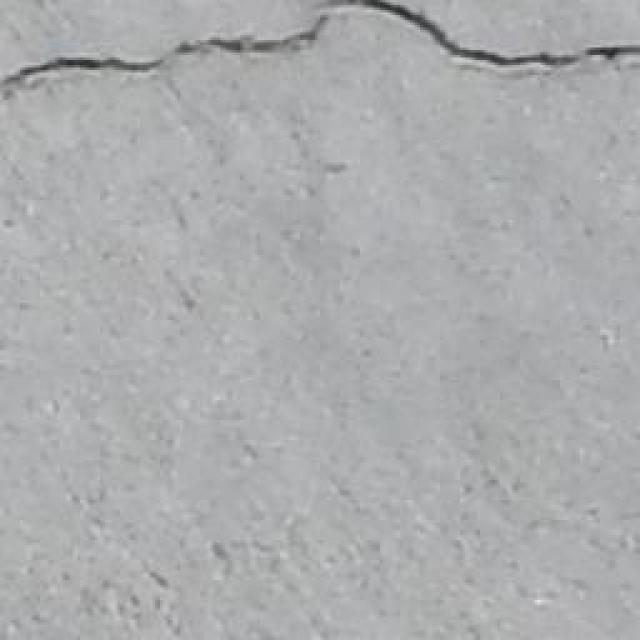concrete-crack: (322, 0, 640, 68), (172, 18, 328, 55), (0, 58, 165, 90)
